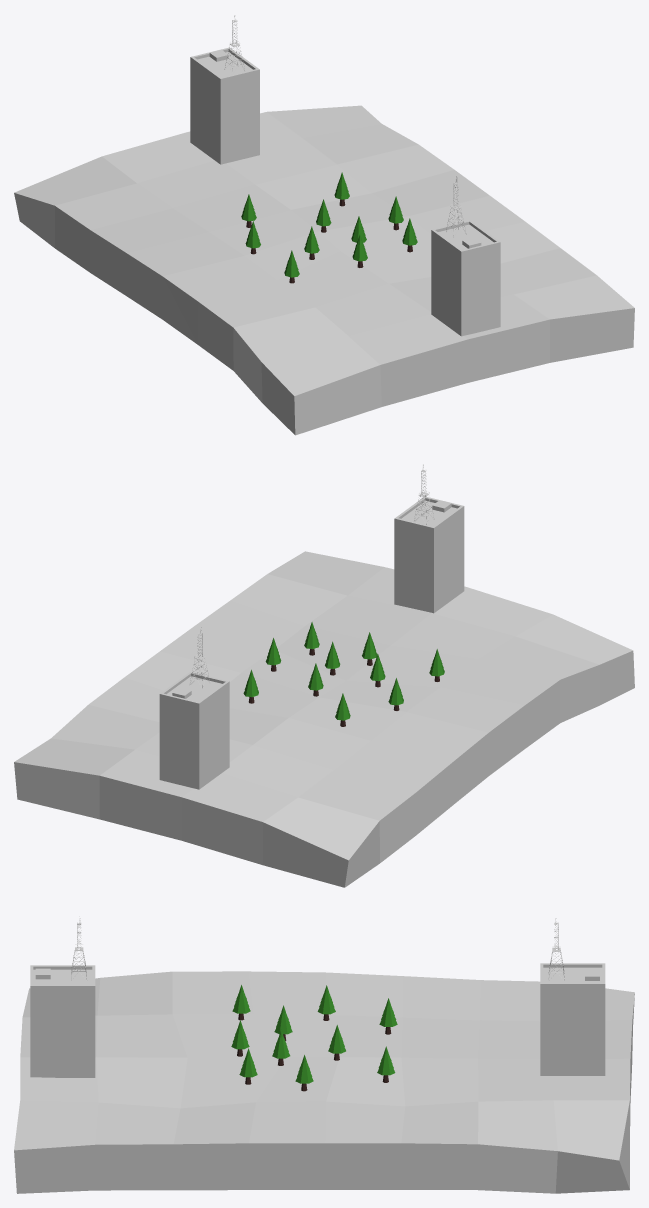
Rendered from los.gltf.
The picture shows the model from 3 angles, top to bottom: view 1: azimuth 30°, elevation 25°; view 2: azimuth 150°, elevation 25°; view 3: azimuth 270°, elevation 25°; orthographic projection. The views are drawn at different scales.
Visible parts, largest first — view 1: Ground, Cube.002, Cube.001; view 2: Ground, Cube.002, Cube.001; view 3: Ground, Cube.001, Cube.002.
Boxes of the visible parts, x1,y1,x2,y2 form: Ground: (14,105,634,435); Cube.002: (190,47,259,164); Cube.001: (431,220,500,336); Ground: (14,551,634,887); Cube.002: (159,672,229,789); Cube.001: (394,496,464,613); Ground: (14,971,634,1193); Cube.001: (30,965,95,1077); Cube.002: (540,963,605,1075).
Size of the model in its own units: 8.36 by 4.57 by 12.22.
